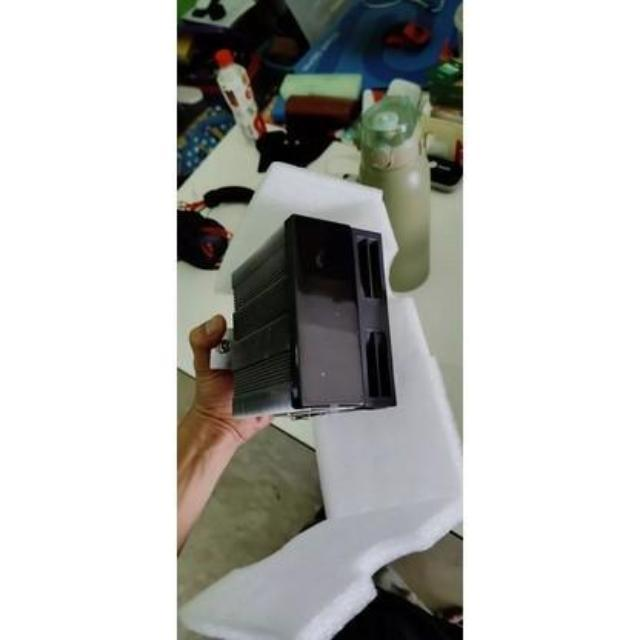CPU_Fan: (220, 218, 400, 438)
